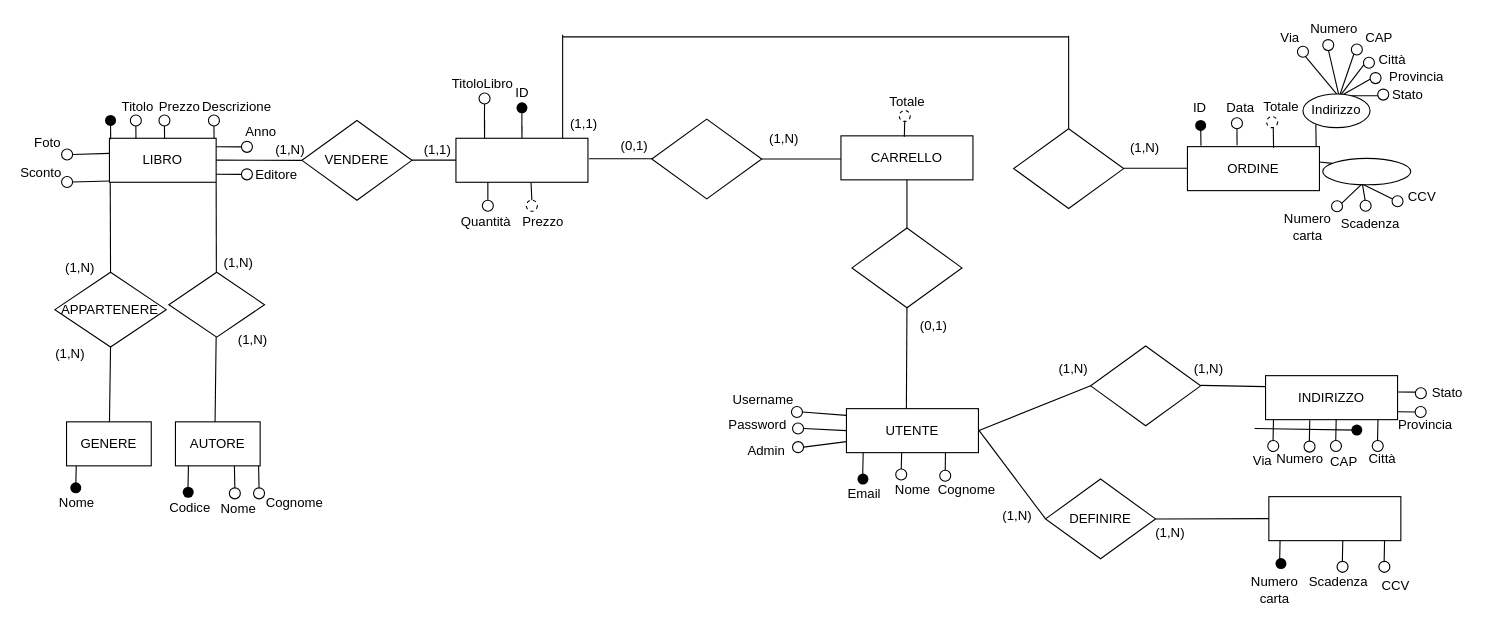
Some shapes in this 1487 by 627 pixel diagram are drawn without their labels. Each missing label, with the centre of its shape:
ACCETTARE: the point at 1068,168
AGGIUNGERE: the point at 706,158
DETTAGLIO: the point at 521,159
DICHIARARE: the point at 1145,385
ISBN: the point at 110,120
MODALITÀ DI PAGAMENTO: the point at 1334,518
Pagamento: the point at 1366,171
RIEMPIRE: the point at 906,267
SCRIVERE: the point at 216,304
